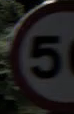Speed limit: (11, 8, 69, 97)
